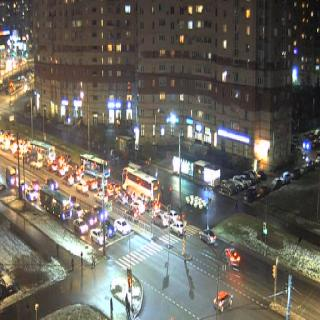large-vehicle: (122, 167, 159, 206), (41, 185, 72, 220), (80, 153, 110, 180), (30, 140, 55, 162), (4, 165, 19, 187), (31, 154, 43, 170)
small-vehicle: (214, 291, 233, 312), (199, 228, 216, 247), (91, 228, 107, 248), (225, 247, 240, 267), (219, 180, 236, 196), (114, 218, 130, 234), (102, 221, 116, 239), (73, 218, 88, 234), (146, 198, 161, 213), (288, 163, 301, 180), (170, 221, 185, 235), (153, 214, 168, 228), (227, 176, 241, 191), (92, 207, 106, 221), (82, 211, 96, 225), (124, 208, 138, 222), (130, 200, 144, 214), (75, 181, 89, 195), (244, 187, 256, 203), (279, 168, 290, 185), (165, 210, 179, 223), (238, 173, 251, 187), (99, 185, 114, 197), (94, 192, 108, 204), (115, 194, 127, 206), (245, 172, 257, 184), (259, 183, 270, 196), (270, 178, 281, 190), (87, 179, 98, 191), (295, 146, 306, 157), (70, 170, 80, 182), (109, 183, 122, 192), (63, 175, 73, 186), (74, 166, 84, 177), (311, 138, 320, 150), (306, 160, 314, 173), (9, 144, 19, 154), (56, 155, 65, 166), (64, 154, 73, 165), (24, 154, 33, 165), (300, 164, 308, 176), (57, 166, 65, 178), (290, 134, 300, 143), (49, 163, 58, 173), (62, 163, 69, 173), (14, 150, 21, 159), (304, 130, 310, 140), (304, 141, 310, 149), (315, 156, 320, 164), (315, 128, 320, 136)
